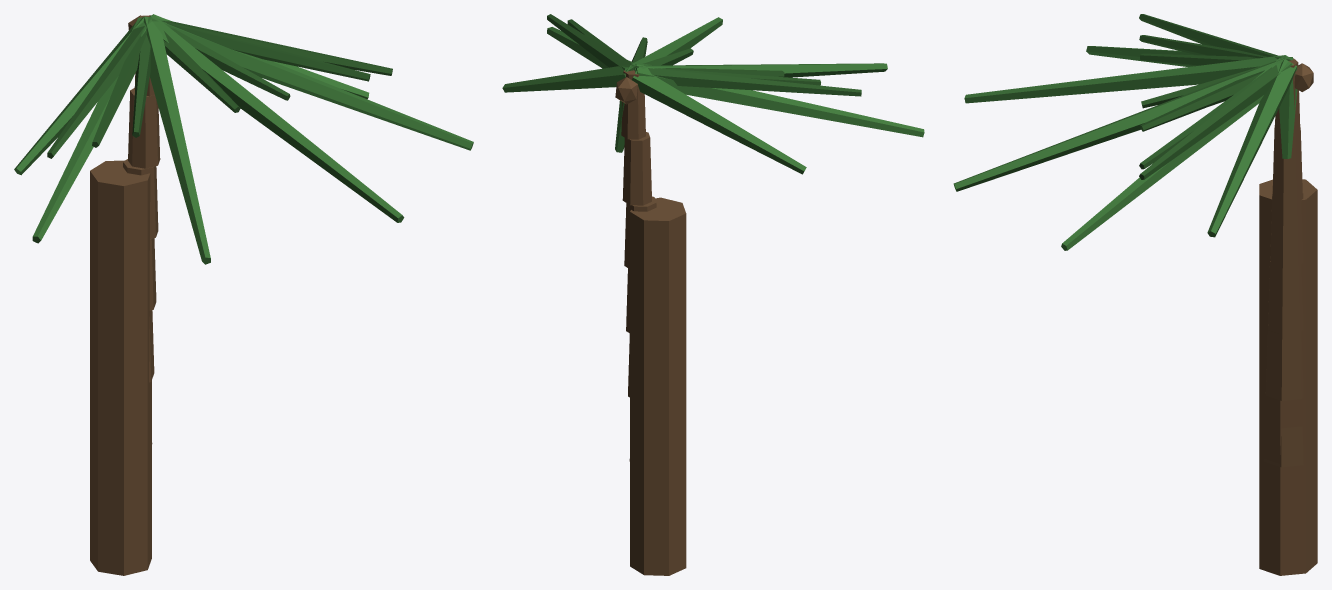
Rendered from NAT_Palm_B.fbx.
The picture shows the model from 3 angles, left to right: view 1: azimuth 30°, elevation 25°; view 2: azimuth 150°, elevation 25°; view 3: azimuth 270°, elevation 25°; orthographic projection. The views are drawn at different scales.
Visible parts, largest first — view 1: NAT_Palm_B__BODY, NAT_Palm_B__COL_Trunk; view 2: NAT_Palm_B__BODY, NAT_Palm_B__COL_Trunk; view 3: NAT_Palm_B__BODY, NAT_Palm_B__COL_Trunk.
Boxes of the visible parts, x1,y1,x2,y2 form: NAT_Palm_B__BODY: (14,14,473,453); NAT_Palm_B__COL_Trunk: (90,160,151,575); NAT_Palm_B__BODY: (502,14,924,461); NAT_Palm_B__COL_Trunk: (630,197,686,575); NAT_Palm_B__BODY: (953,14,1313,467); NAT_Palm_B__COL_Trunk: (1259,179,1317,575).
Bounding box in the file's own units: 4.96 × 6 × 3.81.
